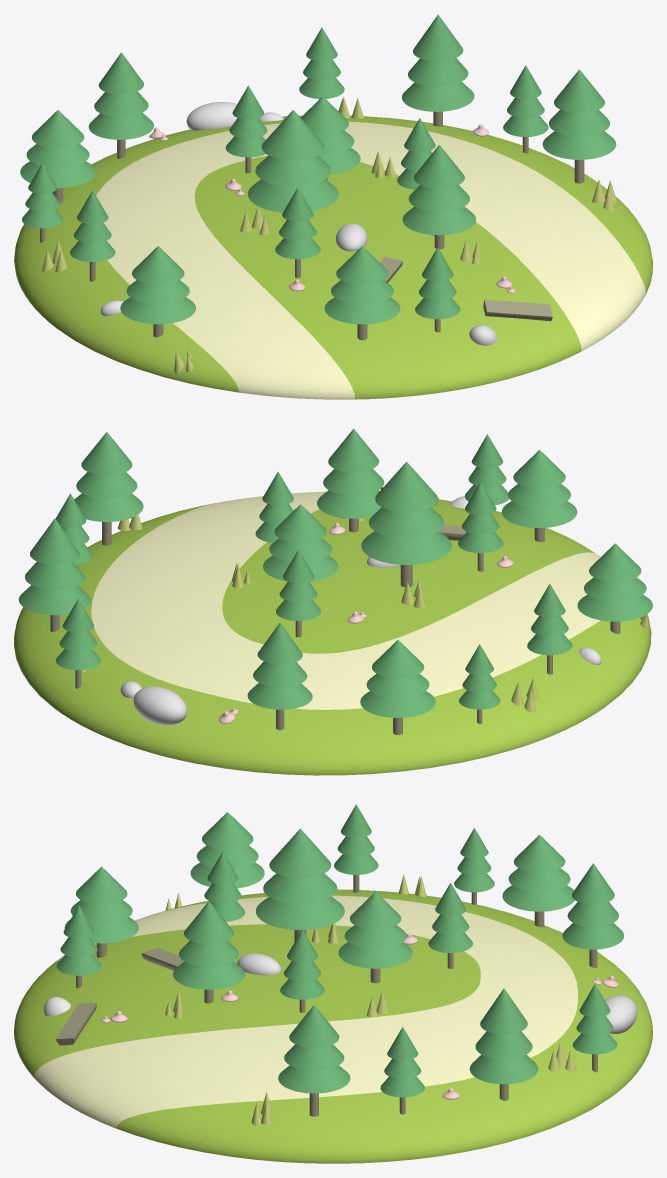
Rendered from 2-winding-trails.glb.
3 renders of one model, top to bottom at view 1: azimuth 30°, elevation 25°; view 2: azimuth 150°, elevation 25°; view 3: azimuth 270°, elevation 25°, orthographic.
Size of the model in its own units: 0.098 by 0.0306 by 0.1005.
